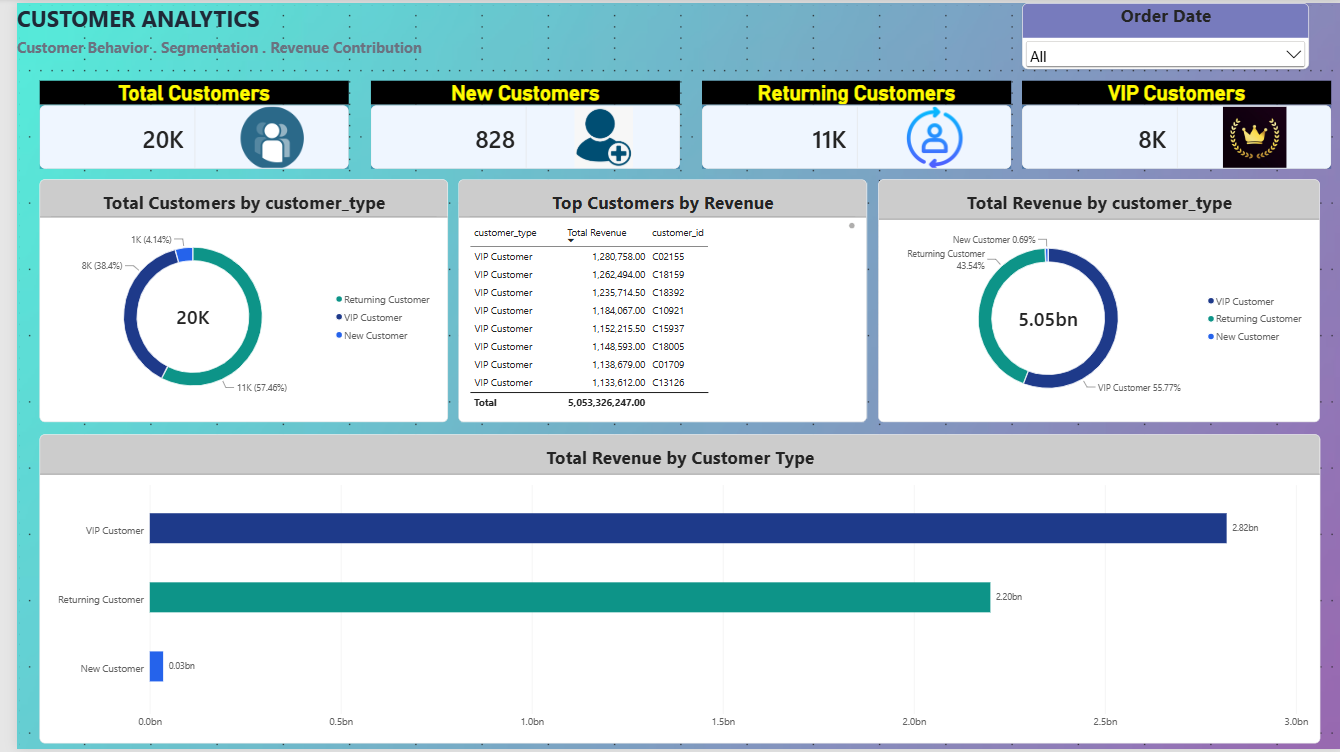

The page's visual inventory and layout, read from the dashboard file:
{"tool":"powerbi","page":{"name":"Customer Analytics","canvas":[1920,1080],"ordinal":1},"visuals":[{"type":"textbox","box":[0,0,400,48],"z":0},{"type":"textbox","box":[0,48,1440,32],"z":1000},{"type":"cardVisual","title":"Total Customers","fields":{"Data":["public customers.Total Customers"]},"box":[32,112,448,128],"z":2000},{"type":"cardVisual","title":"New Customers","fields":{"Data":["public customers.New Customers"]},"box":[512,112,448,128],"z":3000},{"type":"cardVisual","title":"Returning Customers","fields":{"Data":["public customers.Returning Customers"]},"box":[992,112,448,128],"z":4000},{"type":"cardVisual","title":"VIP Customers","fields":{"Data":["public customers.VIP Customers"]},"box":[1456,112,448,128],"z":5000},{"type":"donutChart","fields":{"Category":["public customers.customer_type"],"Y":["public order_items.Total Revenue"]},"box":[1248,256,640,352],"z":6000},{"type":"donutChart","fields":{"Category":["public customers.customer_type"],"Y":["public customers.Total Customers"]},"box":[32,256,592,352],"z":7000},{"type":"clusteredBarChart","title":" Total Revenue by Customer Type","fields":{"Category":["public customers.customer_type"],"Y":["public order_items.Total Revenue"]},"box":[32,624,1856,448],"z":8000},{"type":"tableEx","title":"Top Customers by Revenue","fields":{"Values":["public customers.customer_type","public order_items.Total Revenue","public customers.customer_id"]},"box":[640,256,592,352],"z":9000},{"type":"slicer","title":"Order Date","fields":{"Values":["public orders.order_date"]},"box":[1456,0,416,96],"z":10000}]}

Visuals, with their boxes in screenshot pixels (x1, y1, x2, y2), scaled from the page's 1920x1080 canvas onto the 1340x752 screenshot:
textbox: [x1=0, y1=0, x2=279, y2=33]
textbox: [x1=0, y1=33, x2=1005, y2=56]
"Total Customers" cardVisual: [x1=22, y1=78, x2=335, y2=167]
"New Customers" cardVisual: [x1=357, y1=78, x2=670, y2=167]
"Returning Customers" cardVisual: [x1=692, y1=78, x2=1005, y2=167]
"VIP Customers" cardVisual: [x1=1016, y1=78, x2=1329, y2=167]
donutChart - public customers.customer_type x public order_items.Total Revenue: [x1=871, y1=178, x2=1318, y2=423]
donutChart - public customers.customer_type x public customers.Total Customers: [x1=22, y1=178, x2=436, y2=423]
" Total Revenue by Customer Type" clusteredBarChart: [x1=22, y1=434, x2=1318, y2=746]
"Top Customers by Revenue" tableEx: [x1=447, y1=178, x2=860, y2=423]
"Order Date" slicer: [x1=1016, y1=0, x2=1306, y2=67]
